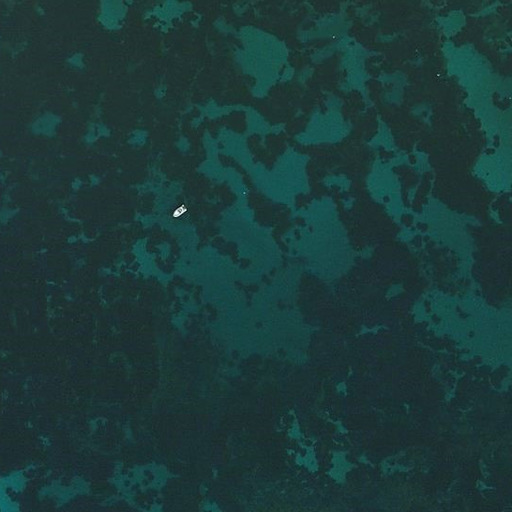ship: (170, 203, 188, 220)
